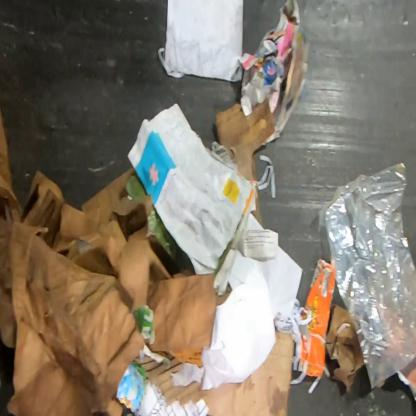cardboard: (0, 105, 148, 415), (58, 167, 233, 353), (132, 330, 296, 415), (108, 172, 196, 279), (213, 96, 276, 228), (298, 258, 336, 378), (398, 360, 416, 402)
soft_plastic: (323, 160, 415, 392)
